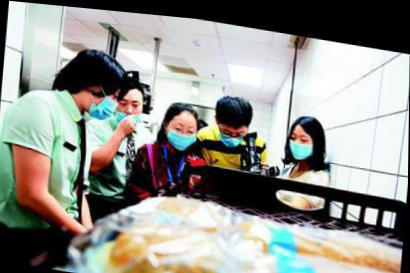OK: (86, 82, 122, 122), (285, 119, 321, 156), (169, 112, 199, 148), (219, 118, 247, 145)
WRONG: (115, 94, 146, 127)
